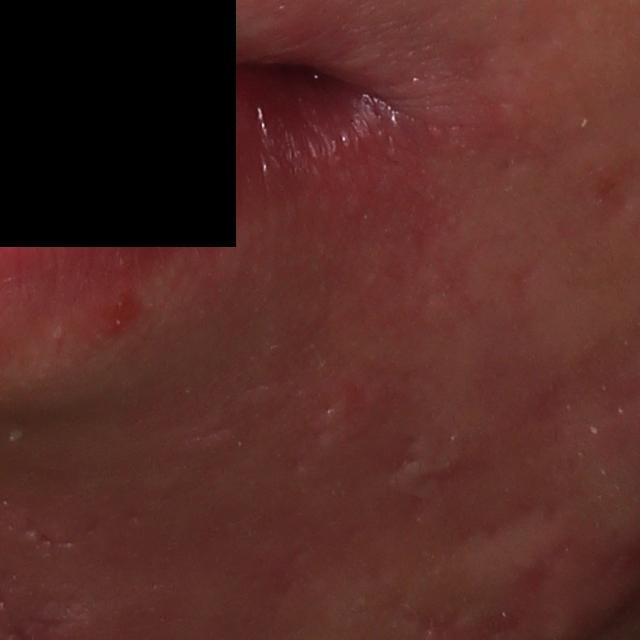hypertrophic_scar: (302, 396, 380, 472), (388, 430, 469, 503)
papule: (91, 281, 157, 340)
